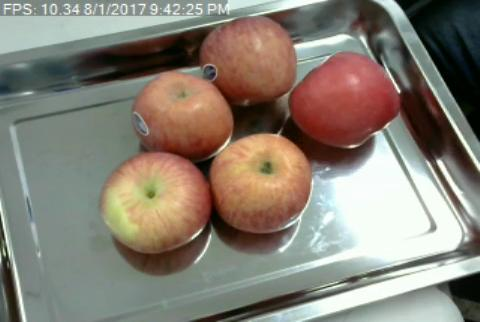apple: (288, 50, 401, 148), (101, 154, 211, 251), (211, 134, 312, 231), (131, 72, 230, 154), (204, 17, 297, 101)
